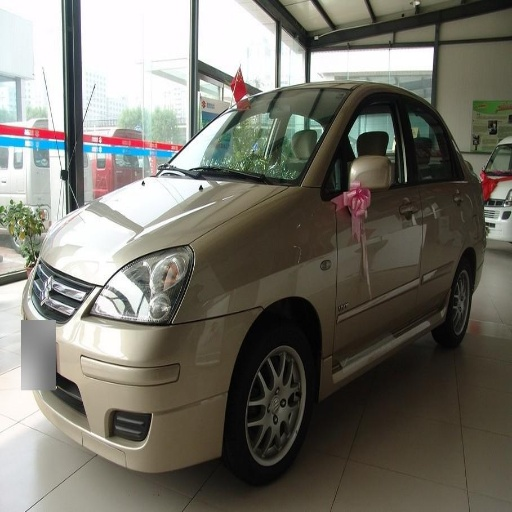front_bumper: (26, 264, 255, 470)
front_glass: (159, 87, 352, 183)
front_left_door: (333, 88, 421, 359)
